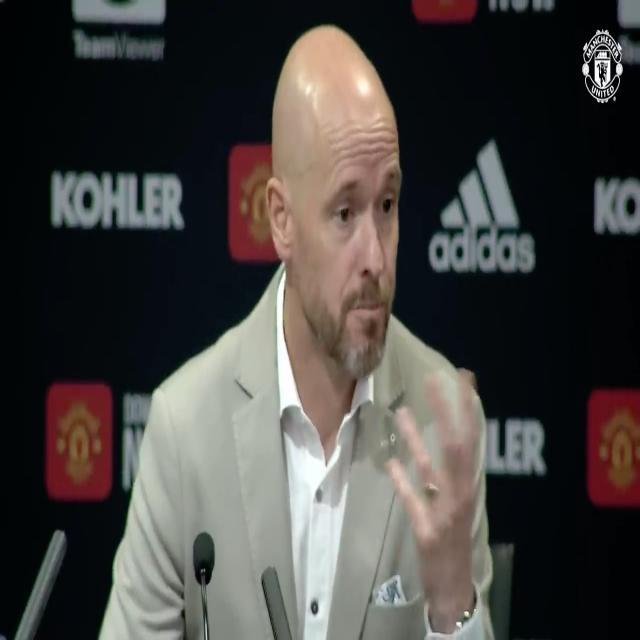Adidas: (427, 134, 534, 270)
Kohler: (51, 170, 185, 231)
TeamViewer: (71, 0, 166, 60)
